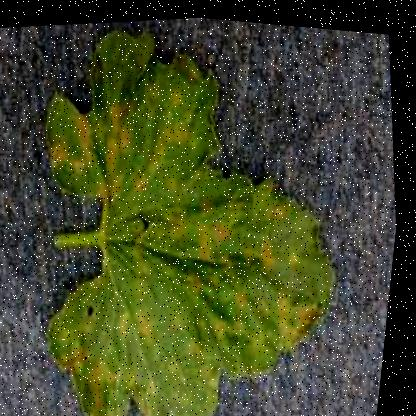DownyMildew: (43, 32, 239, 290), (136, 143, 334, 366), (43, 261, 238, 415)
